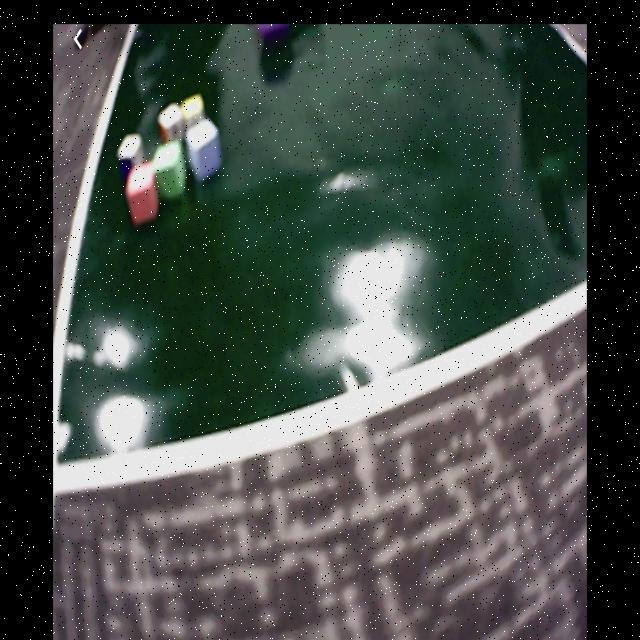ball: (258, 25, 292, 48)
